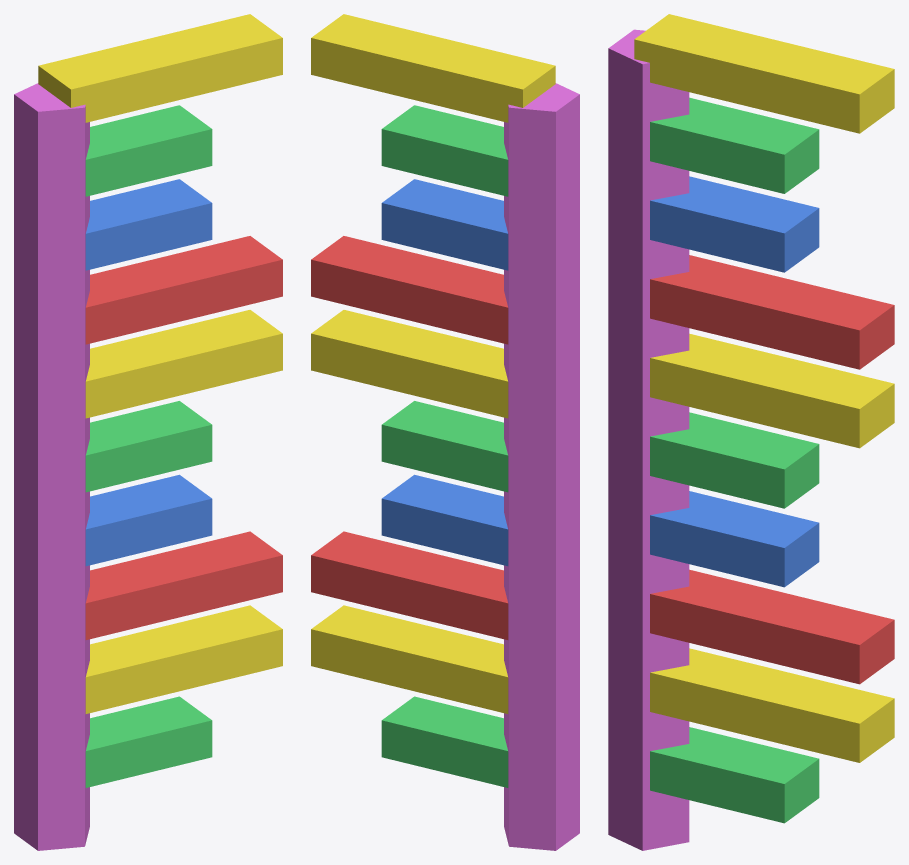
The model's file is Ext_F_Straight_4.fbx.
3 views of the same model, side by side, from view 1: azimuth 30°, elevation 25°; view 2: azimuth 150°, elevation 25°; view 3: azimuth 330°, elevation 25° (orthographic). The views are drawn at different scales.
Visible parts, largest first — view 1: Ext_F_Straight_4; view 2: Ext_F_Straight_4; view 3: Ext_F_Straight_4.
Part boxes in pixels (x1,y1,x2,y2): Ext_F_Straight_4: (14,14,282,850); Ext_F_Straight_4: (311,14,579,850); Ext_F_Straight_4: (608,14,894,850).
Bounding box in the file's own units: 0.034 × 0.1025 × 0.00951.
